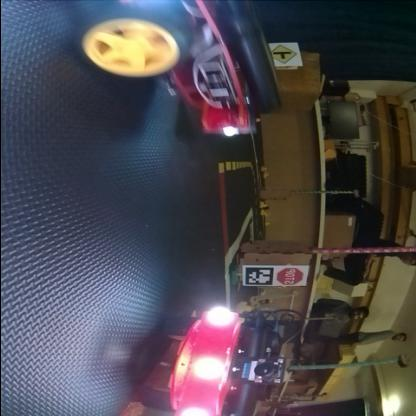Duckie: (236, 302, 252, 314), (258, 202, 266, 208)
Duckiebot: (94, 30, 280, 136), (142, 310, 286, 414)
Intersection sign: (270, 44, 302, 66)
QR code: (244, 266, 274, 286)
Stop sign: (278, 267, 306, 286)
